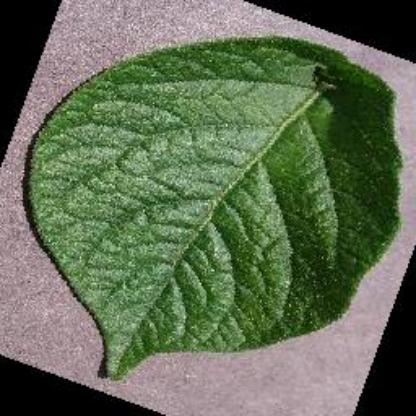Healthy-plant: (29, 38, 402, 380)
